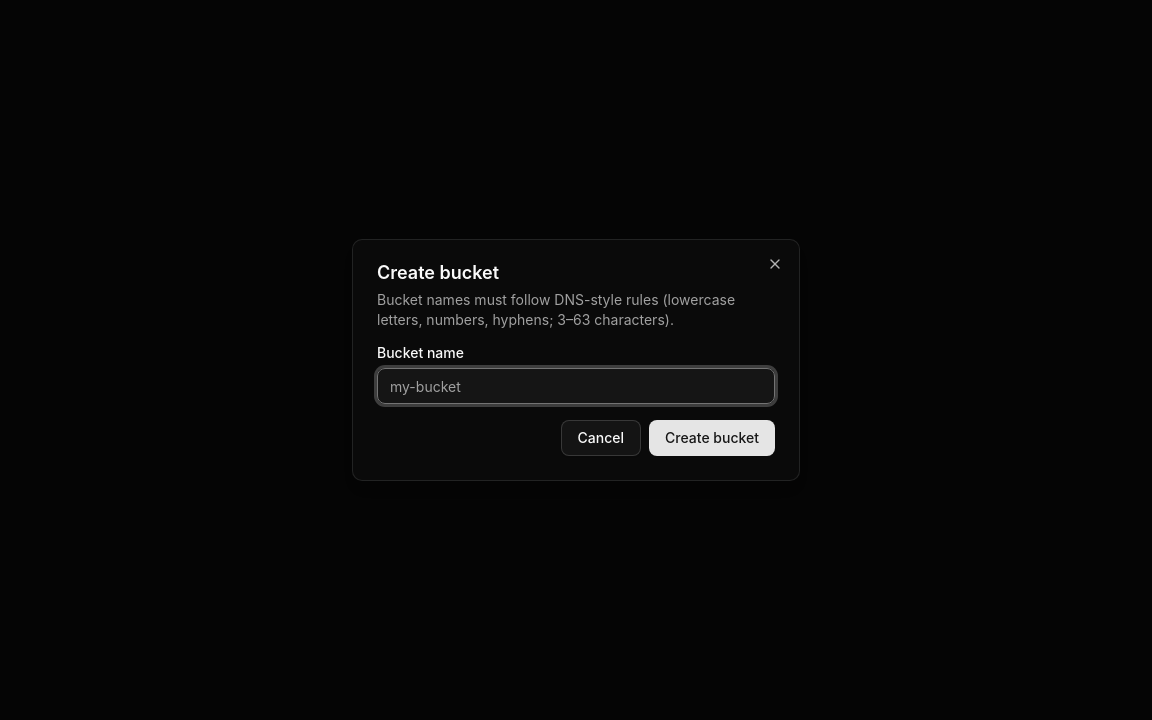
it: CreateBucketDialog › shows a zod validation message when submitting an empty name
Click the button "Create bucket" at (712, 438), box left=649, top=420, right=775, bottom=456
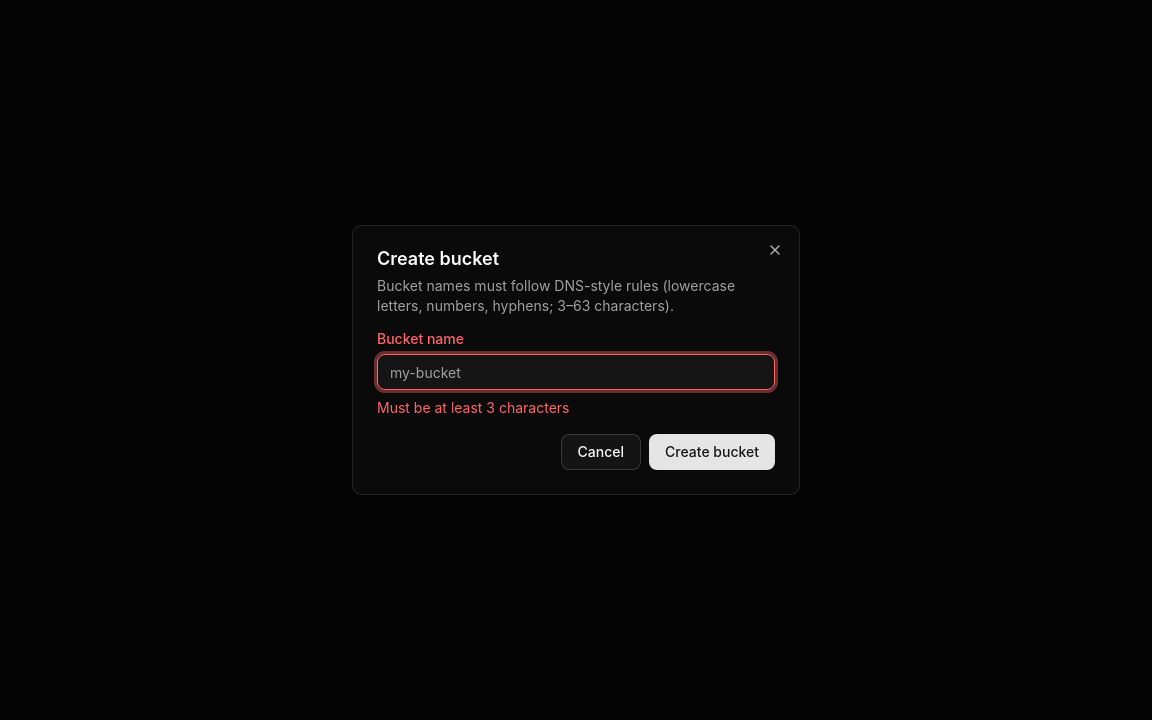
Expected: the text "Must be at least 3 characters" is shown, left=377, top=399, right=570, bottom=416
